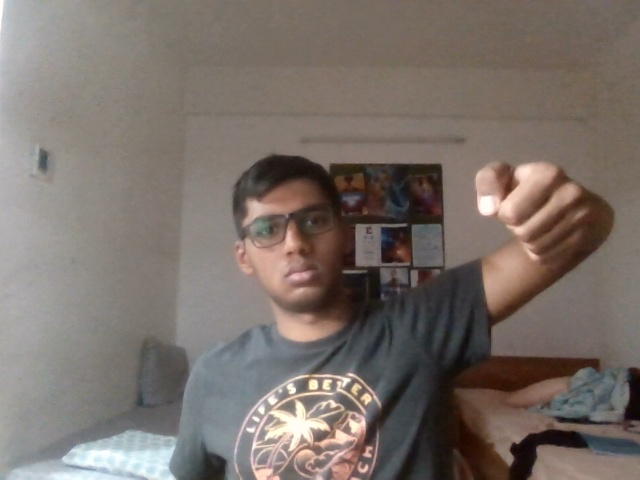yes: (451, 119, 600, 288)
